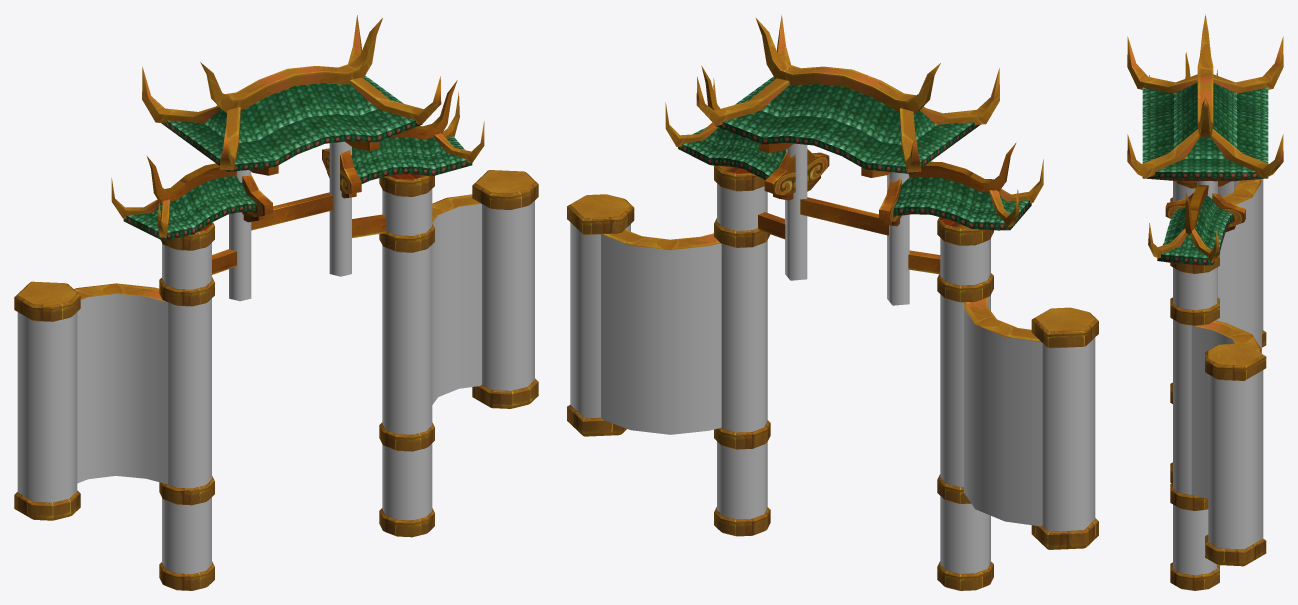
Rendered from environment_Building_sea_001_b.FBX.
3 views of the same model, side by side, from view 1: azimuth 30°, elevation 25°; view 2: azimuth 150°, elevation 25°; view 3: azimuth 270°, elevation 25° (orthographic). The views are drawn at different scales.
Parts seen in each view (by area): view 1: environment_Building_sea_001_b01, environment_Building_sea_001_b03, environment_Building_sea_001_b02; view 2: environment_Building_sea_001_b01, environment_Building_sea_001_b03, environment_Building_sea_001_b02; view 3: environment_Building_sea_001_b01, environment_Building_sea_001_b03, environment_Building_sea_001_b02.
Part boxes in pixels (box(x1,y1,x2,y2)): environment_Building_sea_001_b01: box(17, 141, 534, 590); environment_Building_sea_001_b03: box(14, 15, 538, 590); environment_Building_sea_001_b02: box(123, 75, 472, 240); environment_Building_sea_001_b01: box(570, 143, 1095, 590); environment_Building_sea_001_b03: box(567, 15, 1098, 590); environment_Building_sea_001_b02: box(678, 76, 1031, 230); environment_Building_sea_001_b01: box(1173, 179, 1263, 575); environment_Building_sea_001_b03: box(1127, 14, 1283, 590); environment_Building_sea_001_b02: box(1142, 83, 1268, 265).
Bounding box in the file's own units: 2353 × 2241 × 668.
